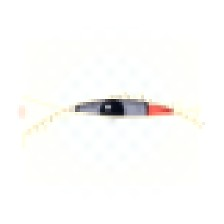hemorrhage_spot: (90, 74, 188, 152)
